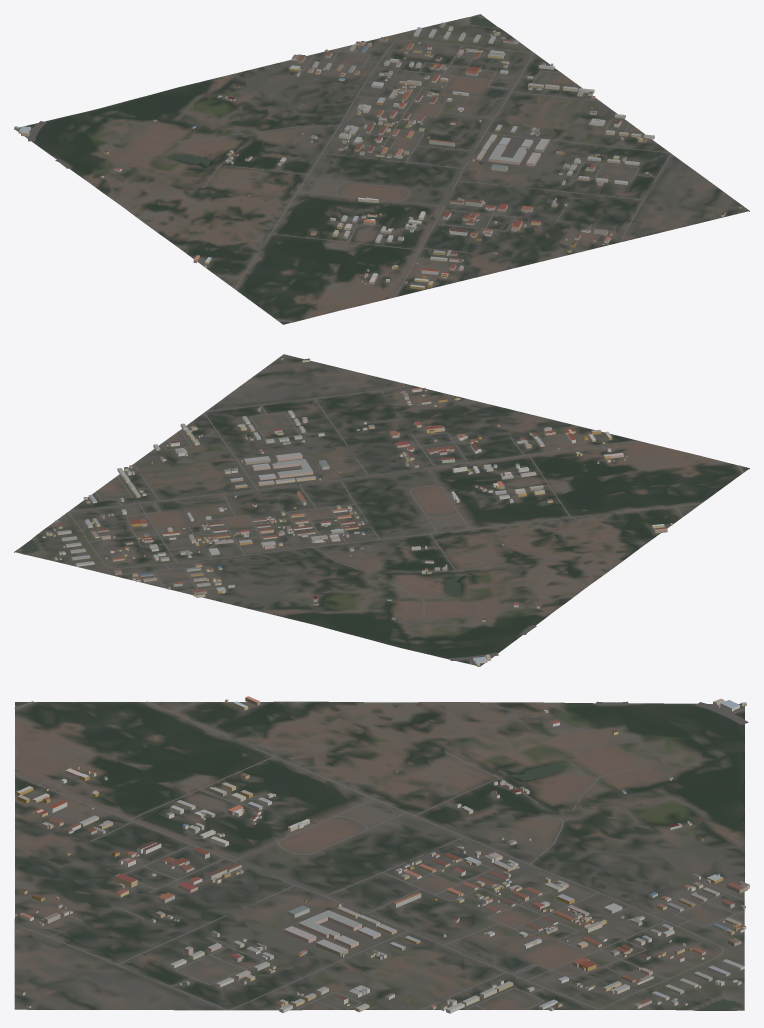
3 views of the same model, one above another, from view 1: azimuth 30°, elevation 25°; view 2: azimuth 150°, elevation 25°; view 3: azimuth 270°, elevation 25° (orthographic). The views are drawn at different scales.
Parts seen in each view (by area): view 1: ground, buildings, roads; view 2: ground, buildings, roads; view 3: ground, buildings, roads, water.
Boxes of the visible parts, box(x1,y1,x2,y2) form: ground: box(14, 14, 749, 324); buildings: box(14, 22, 741, 289); roads: box(28, 40, 671, 322); ground: box(14, 354, 749, 666); buildings: box(42, 357, 672, 666); roads: box(67, 383, 743, 664); ground: box(14, 701, 744, 1010); buildings: box(15, 696, 749, 1013); roads: box(14, 701, 748, 1010); water: box(510, 764, 740, 1010).
Size of the model in its own units: 1427 by 20.37 by 1412.
